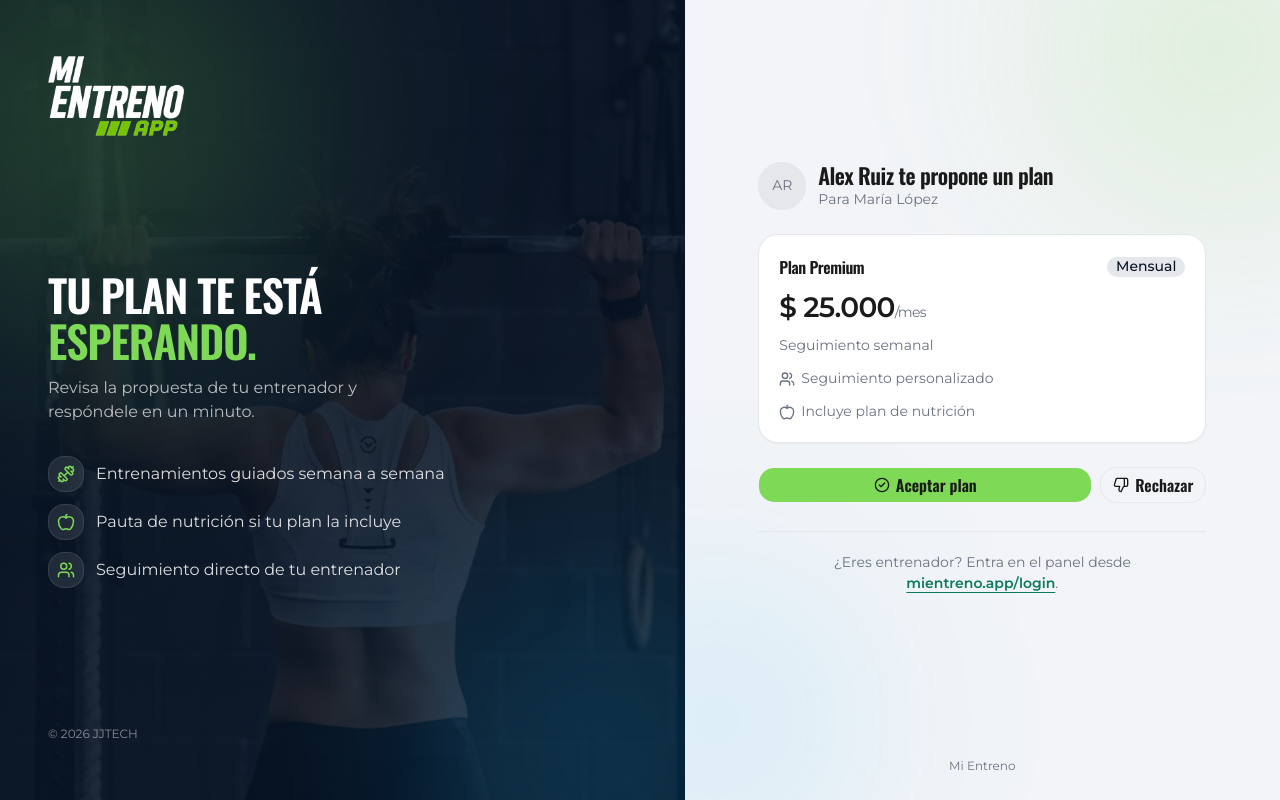
Test case: InvitationResponseScreen › does not announce a new student when the plan is still unpaid
What coordinates should you click on to do the following:
click the button "Aceptar plan"
I would click on:
 (925, 485)
Its box is [758,467,1092,503].
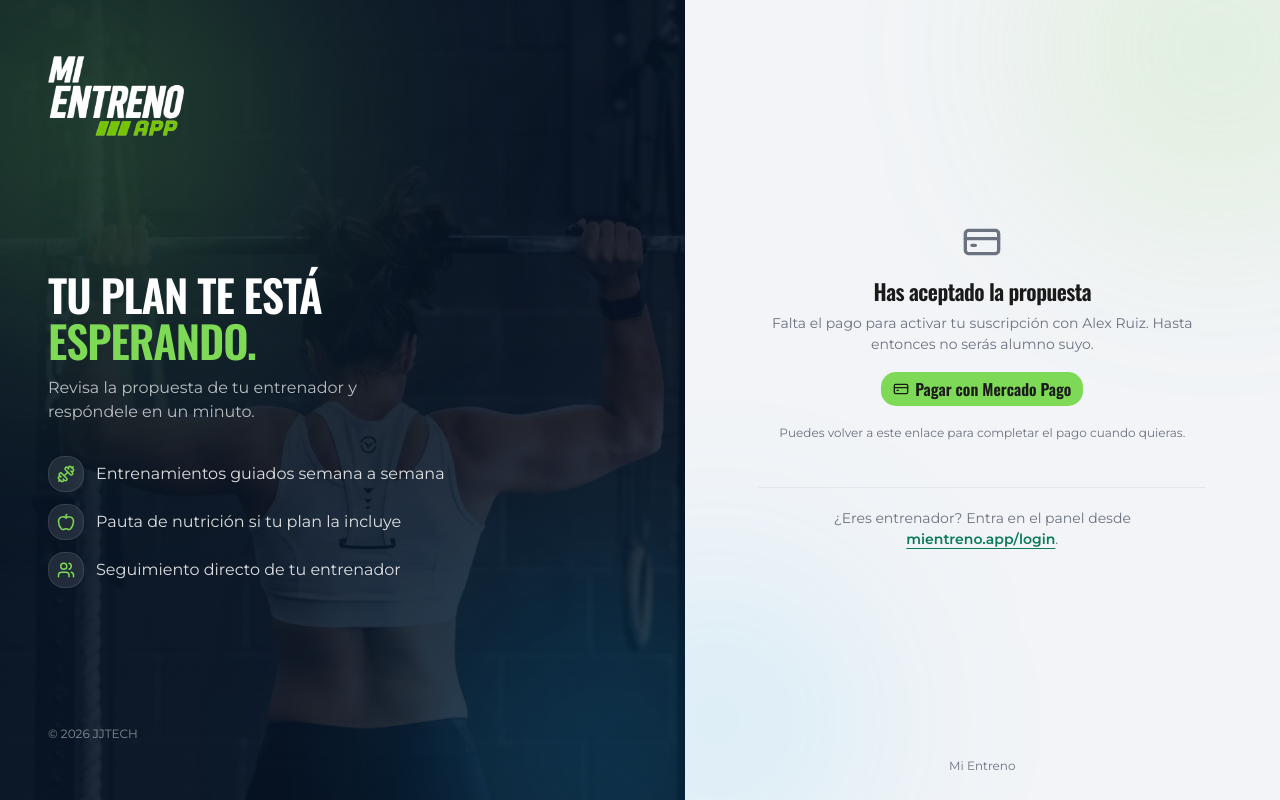
Check: the heading "Has aceptado la propuesta" is shown, box [874,275,1091,307]
